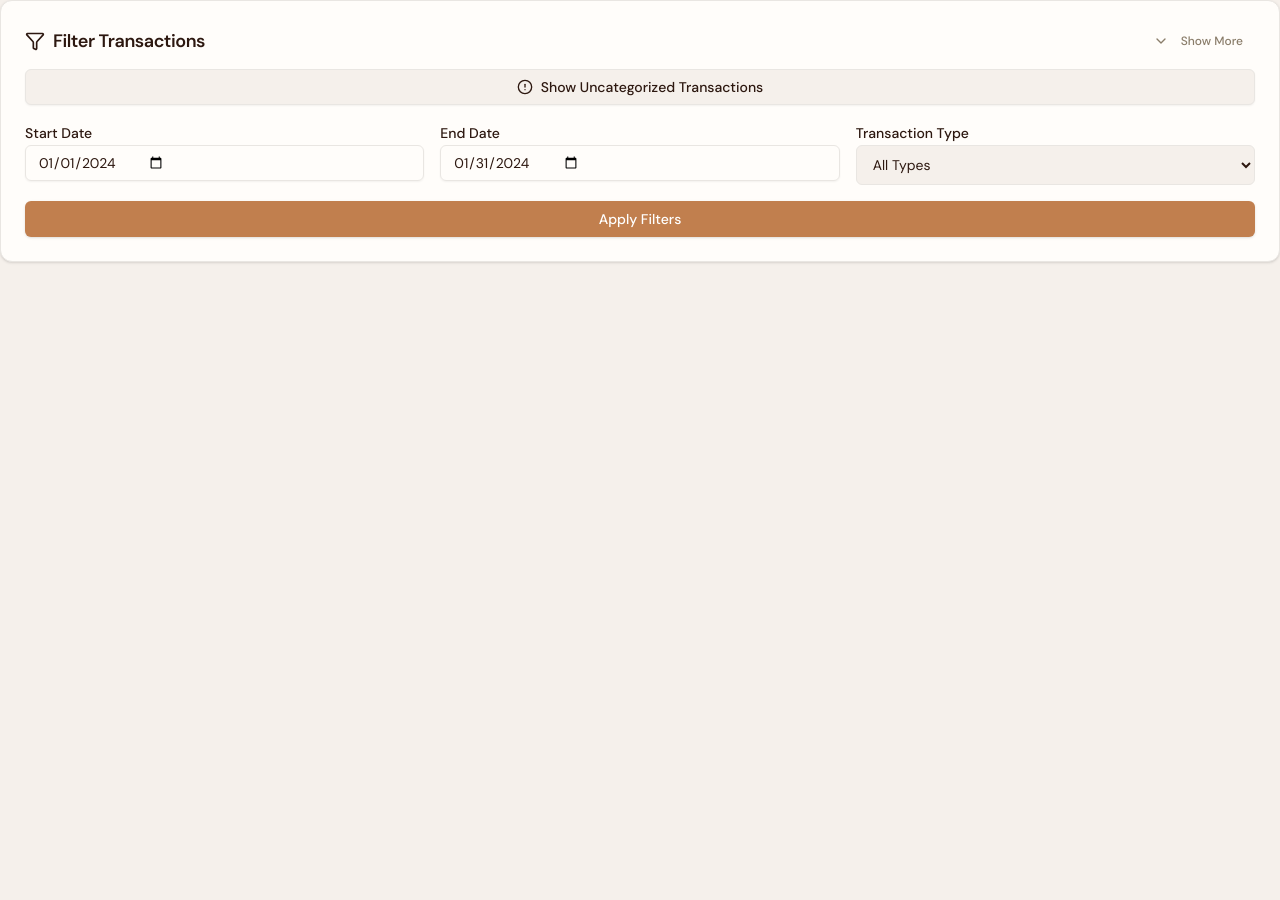
it: TransactionFilters › Filter Expansion › should expand filters when show more button is clicked
Click the button "Show More": (1198, 41) [1141,25,1255,57]
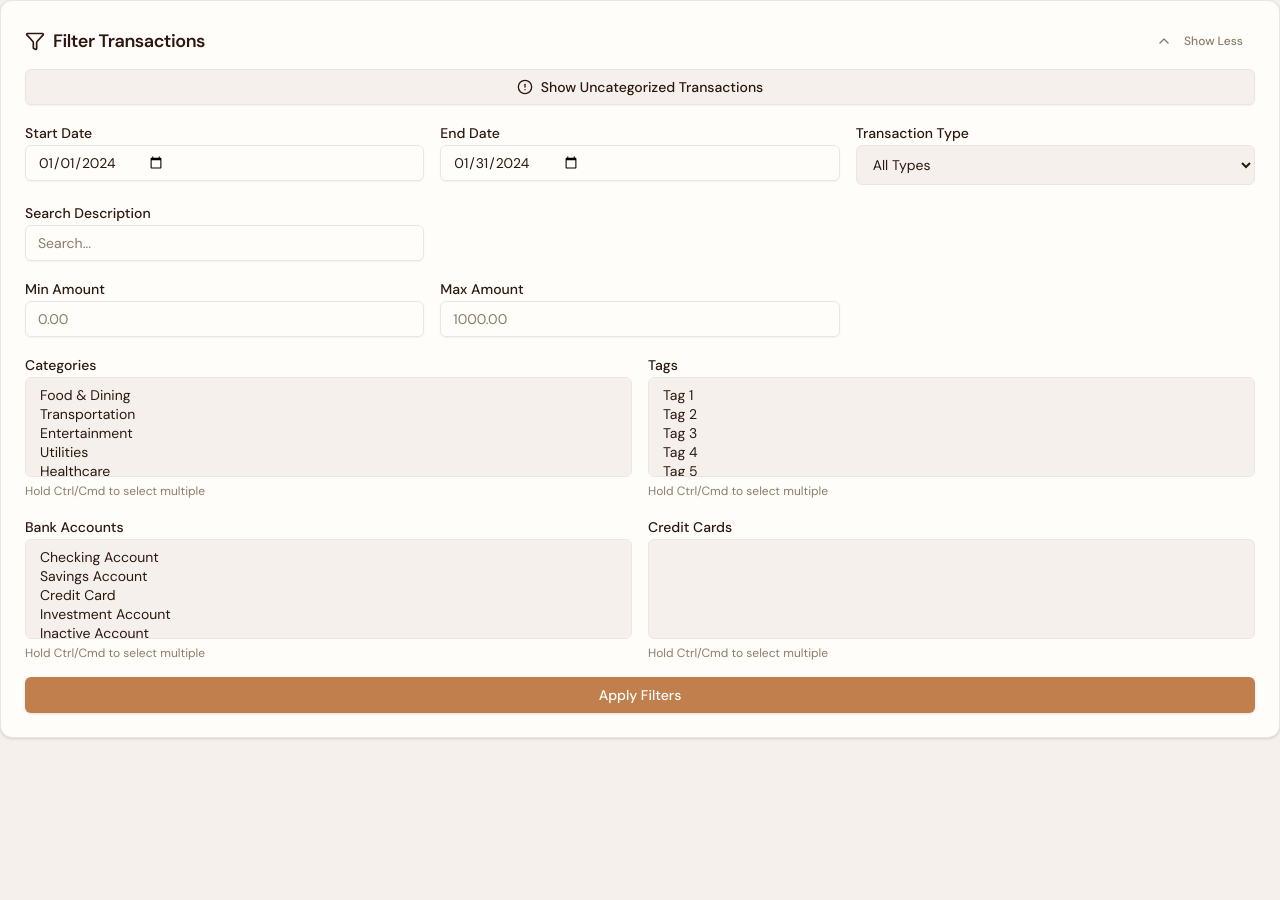
Expected: the number field labelled "Min Amount" is shown, [25,301,424,337]
Expected: the number field labelled "Max Amount" is shown, [440,301,840,337]
